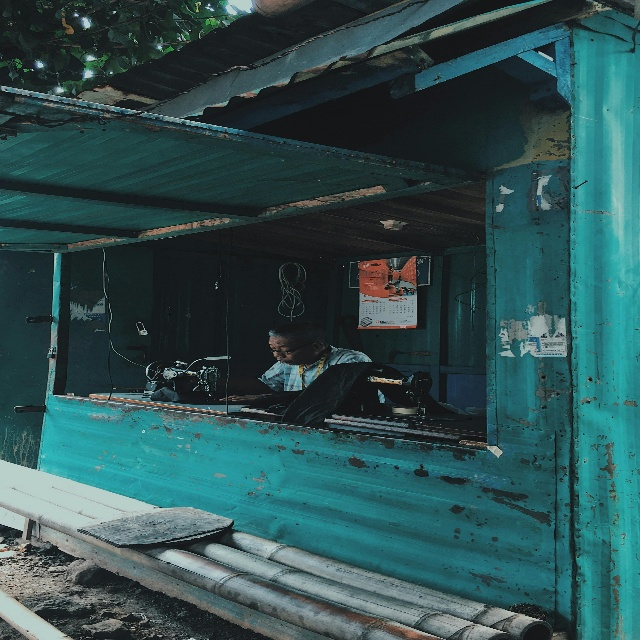Gafas: (268, 343, 311, 353)
Sin_guantes: (219, 393, 257, 403)
